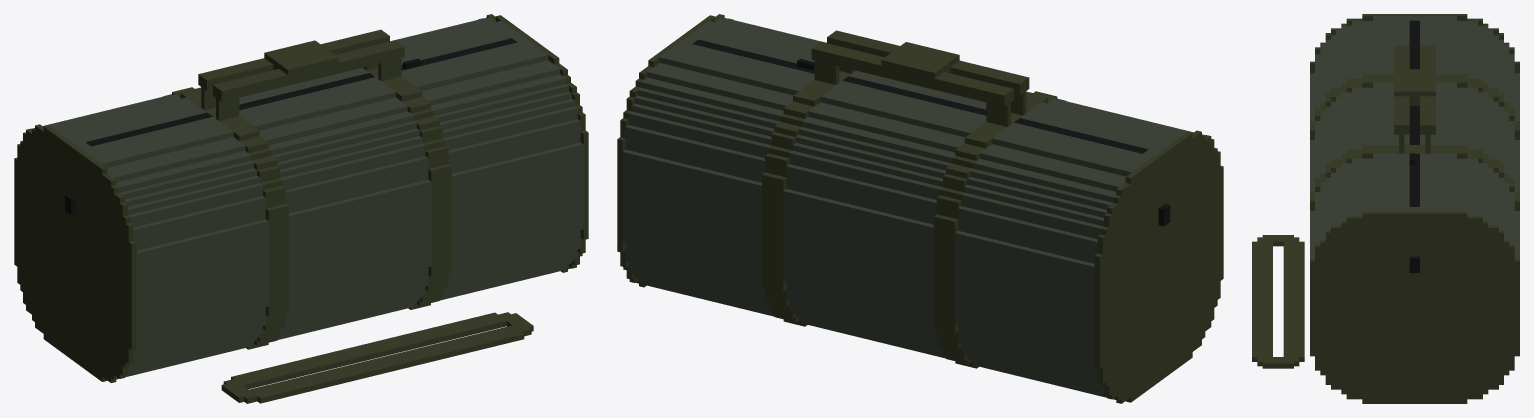
Rendered from duffelbag_xl_nylon.glb.
3 views of the same model, side by side, from view 1: azimuth 30°, elevation 25°; view 2: azimuth 150°, elevation 25°; view 3: azimuth 270°, elevation 25° (orthographic). The views are drawn at different scales.
Parts seen in each view (by area): view 1: duffelbag_xl_nylon:compound; view 2: duffelbag_xl_nylon:compound; view 3: duffelbag_xl_nylon:compound.
Boxes of the visible parts, left/top/right/bottom form: duffelbag_xl_nylon:compound: left=14, top=14, right=588, bottom=403; duffelbag_xl_nylon:compound: left=617, top=14, right=1223, bottom=403; duffelbag_xl_nylon:compound: left=1252, top=14, right=1519, bottom=403.
Size of the model in its own units: 0.92 by 0.47 by 0.51.
